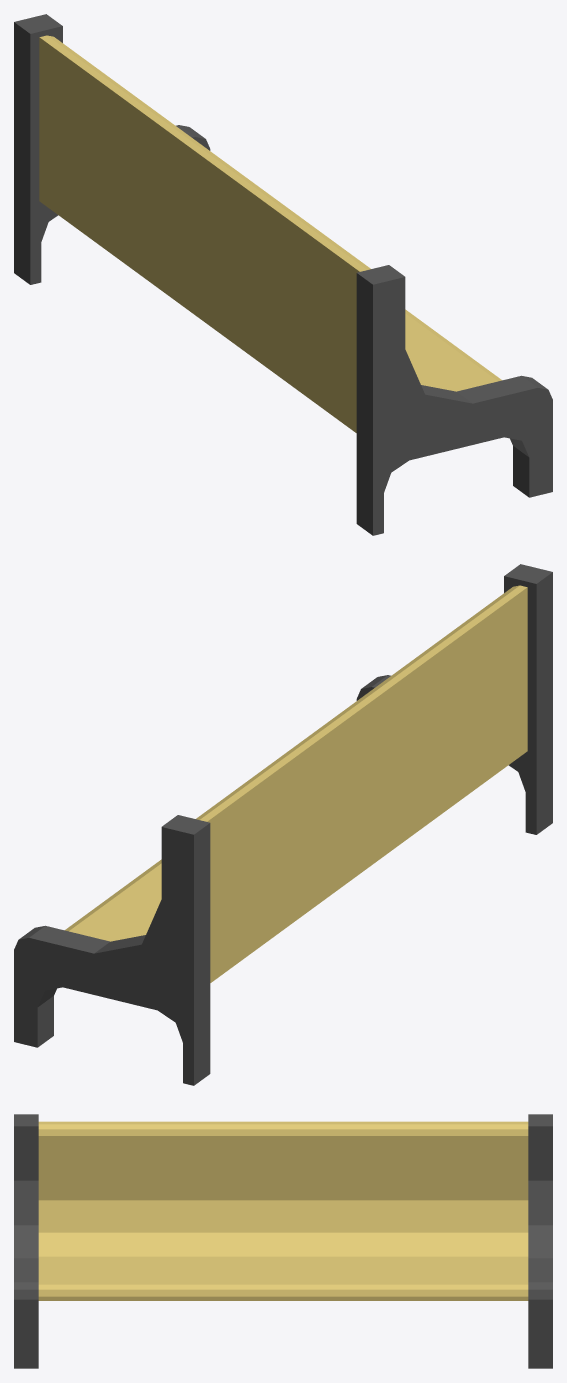
File: benches.fbx
The picture shows the model from 3 angles, top to bottom: view 1: azimuth 30°, elevation 25°; view 2: azimuth 150°, elevation 25°; view 3: azimuth 270°, elevation 25°; orthographic projection. The views are drawn at different scales.
Visible parts, largest first — view 1: Cube; view 2: Cube; view 3: Cube.
Boxes of the visible parts, box(x1,y1,x2,y2) form: Cube: box(14, 14, 552, 535); Cube: box(14, 564, 552, 1085); Cube: box(14, 1114, 552, 1368).
Bounding box in the file's own units: 495 × 659 × 1709.
